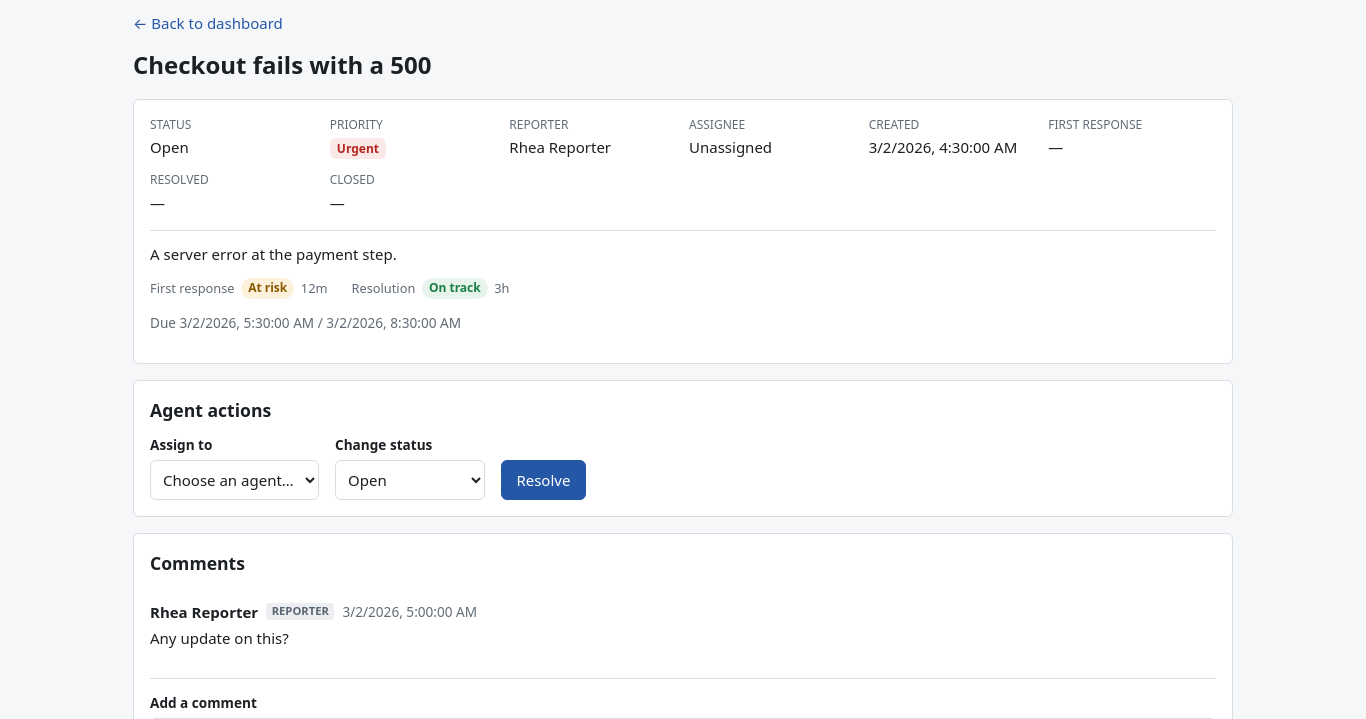
agent controls › shows the server message verbatim when a transition is rejected
Check: the heading "Agent actions" is shown, box left=150, top=398, right=271, bottom=422
Select "In progress" in the dropdown labelled "Change status": (410, 480) left=335, top=460, right=485, bottom=500
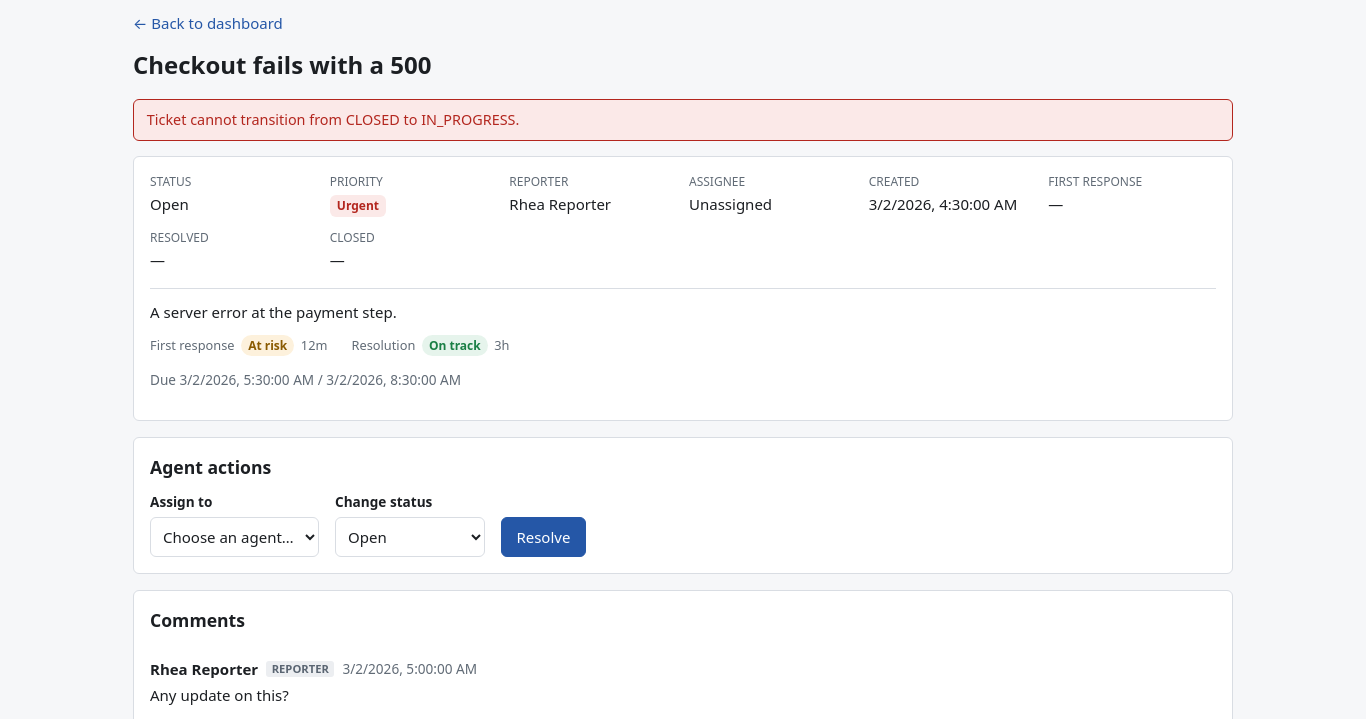
Check: the message reads "Ticket cannot transition from CLOSED to IN_PROGRESS.", box left=147, top=110, right=519, bottom=129
